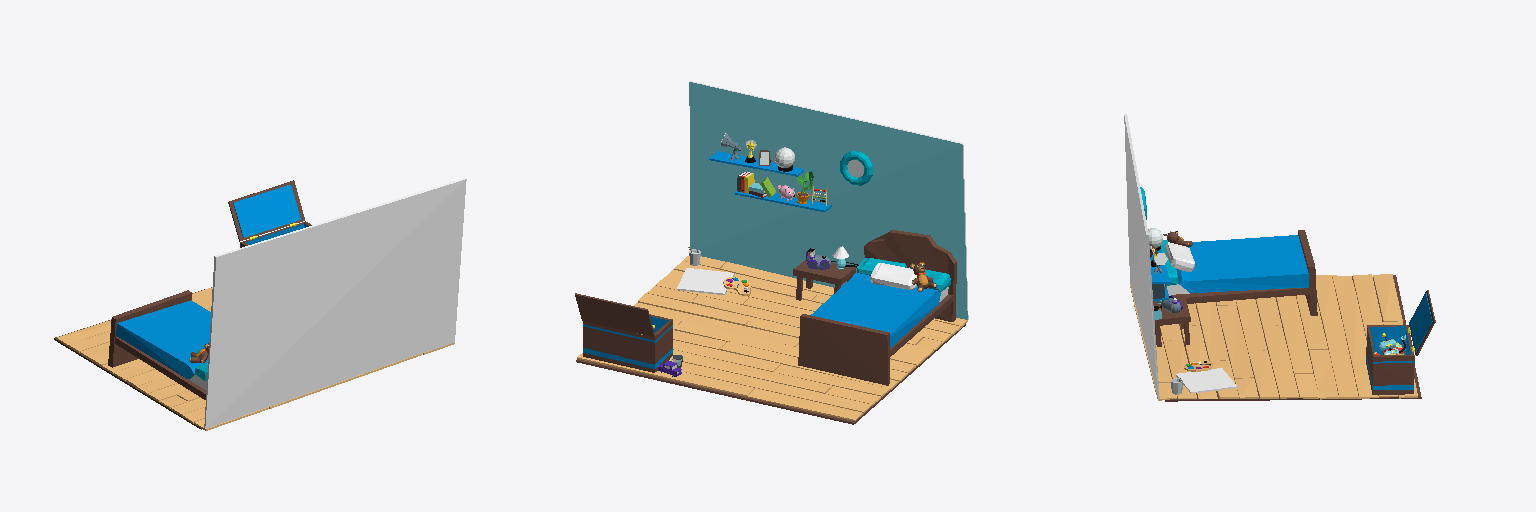
The picture shows the model from 3 angles: view 1: azimuth 30°, elevation 25°; view 2: azimuth 150°, elevation 25°; view 3: azimuth 270°, elevation 25°; orthographic projection.
Parts seen in each view (by area): view 1: group[number redacted], group[number redacted], group[number redacted], group[number redacted], group[number redacted], group[number redacted], group[number redacted]; view 2: group[number redacted], group[number redacted], group[number redacted], group[number redacted], group[number redacted], group[number redacted], group[number redacted], group[number redacted], group[number redacted], group[number redacted], group[number redacted], group[number redacted] (+17 smaller); view 3: group[number redacted], group[number redacted], group[number redacted], group[number redacted], group[number redacted], group[number redacted], group[number redacted], group[number redacted], group[number redacted], group[number redacted], group[number redacted], group[number redacted] (+13 smaller).
Boxes of the visible parts, <box> form: group[number redacted]: <box>204,178,466,428</box>; group[number redacted]: <box>116,300,210,378</box>; group[number redacted]: <box>233,184,300,237</box>; group[number redacted]: <box>108,290,205,399</box>; group[number redacted]: <box>228,180,304,241</box>; group[number redacted]: <box>56,320,110,345</box>; group[number redacted]: <box>68,298,211,352</box>; group[number redacted]: <box>689,81,968,319</box>; group[number redacted]: <box>798,230,956,385</box>; group[number redacted]: <box>811,273,940,347</box>; group[number redacted]: <box>583,314,672,372</box>; group[number redacted]: <box>575,293,654,336</box>; group[number redacted]: <box>694,366,871,413</box>; group[number redacted]: <box>670,350,832,393</box>; group[number redacted]: <box>634,302,798,346</box>; group[number redacted]: <box>576,323,965,424</box>; group[number redacted]: <box>675,321,798,357</box>; group[number redacted]: <box>747,388,862,420</box>; group[number redacted]: <box>638,293,752,325</box>; group[number redacted]: <box>1176,235,1308,292</box>; group[number redacted]: <box>1124,114,1159,398</box>; group[number redacted]: <box>1366,325,1414,394</box>; group[number redacted]: <box>1171,230,1317,315</box>; group[number redacted]: <box>1323,322,1358,398</box>; group[number redacted]: <box>1277,300,1312,373</box>; group[number redacted]: <box>1217,305,1253,378</box>; group[number redacted]: <box>1263,325,1299,398</box>; group[number redacted]: <box>1337,295,1366,370</box>; group[number redacted]: <box>1196,302,1228,360</box>; group[number redacted]: <box>1160,275,1421,401</box>; group[number redacted]: <box>1353,274,1382,338</box>.
Size of the model in its own units: 6.23 by 3.76 by 5.83.